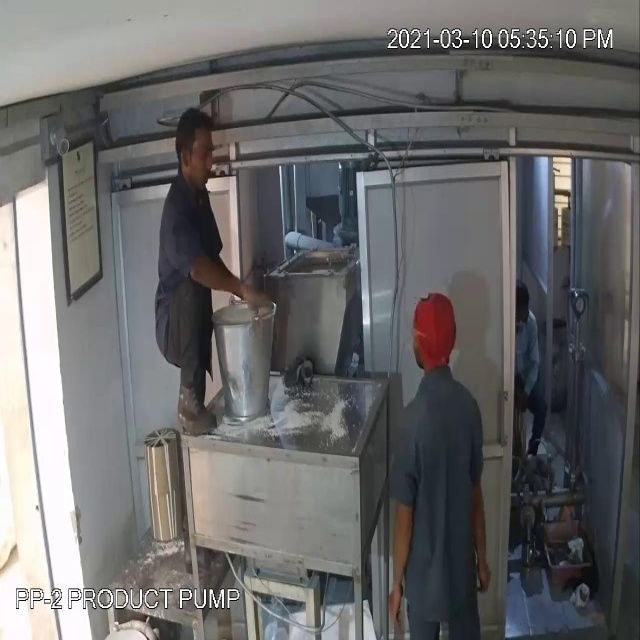Sin_guantes: (174, 219, 266, 329), (461, 444, 501, 601), (385, 465, 421, 628)
